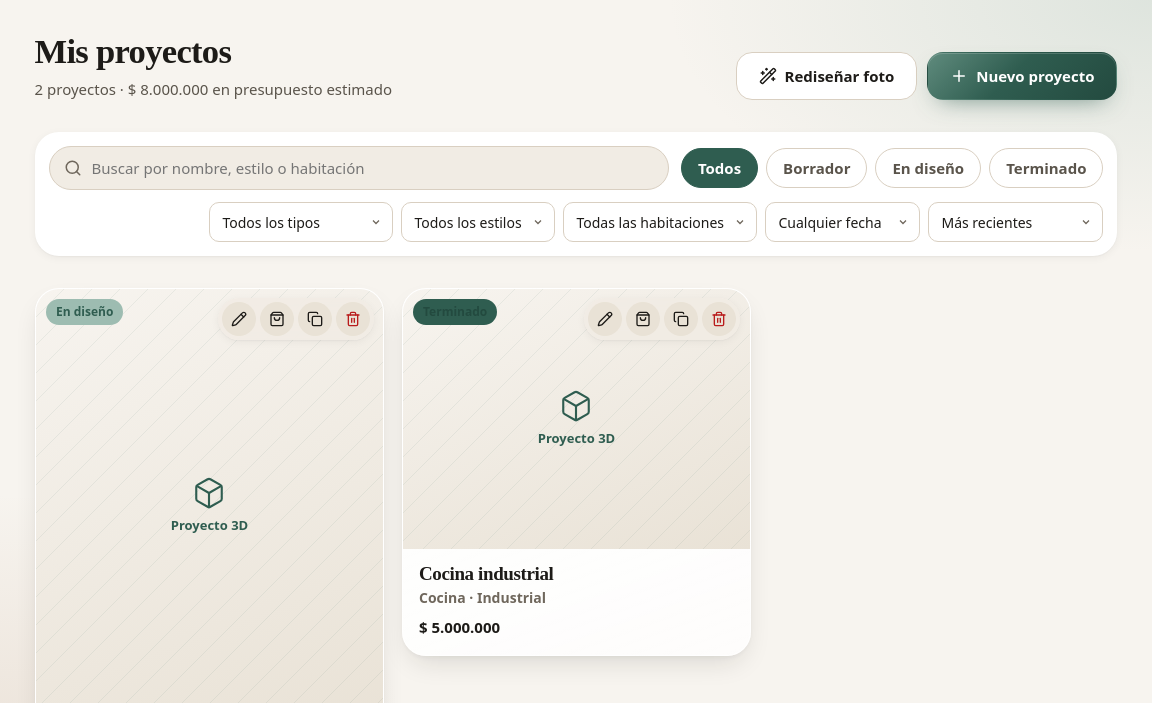
Test: Projects page › filters by text and status and clears the filters
The width and height of the screenshot is (1152, 703).
Type "cocina" into the search field named "Buscar proyectos" at [372, 168], box [90,156,654,180]
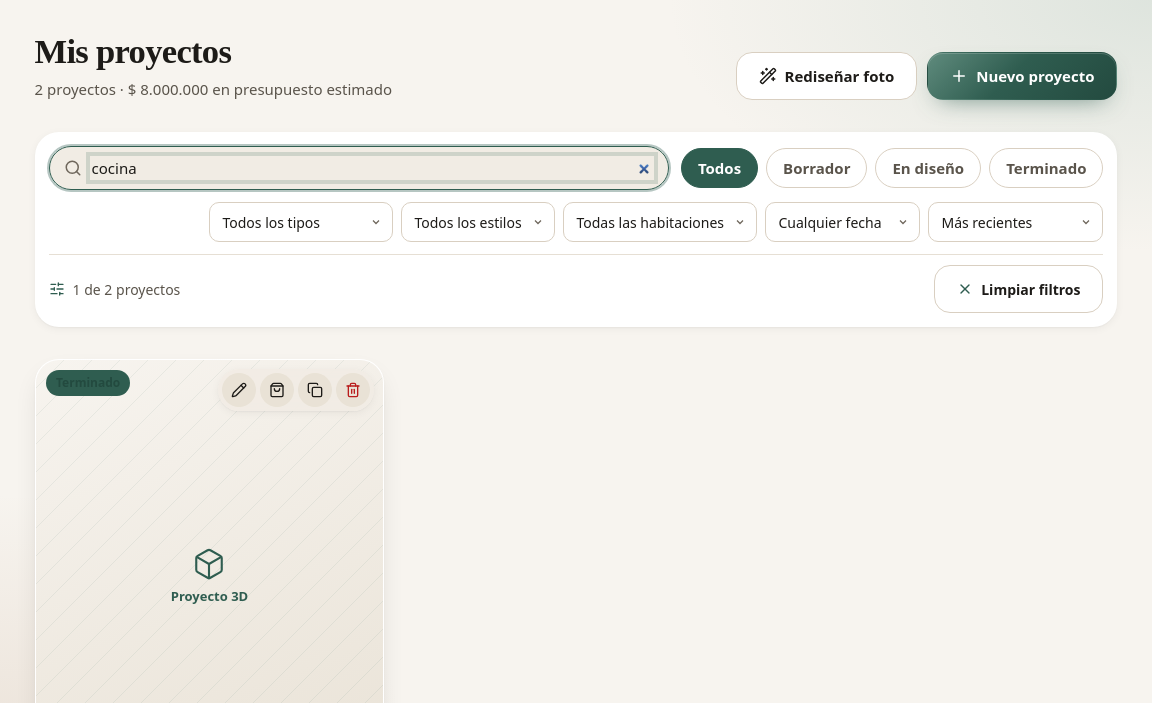
Click the button "En diseño" at [928, 168], box [876,148,981,188]
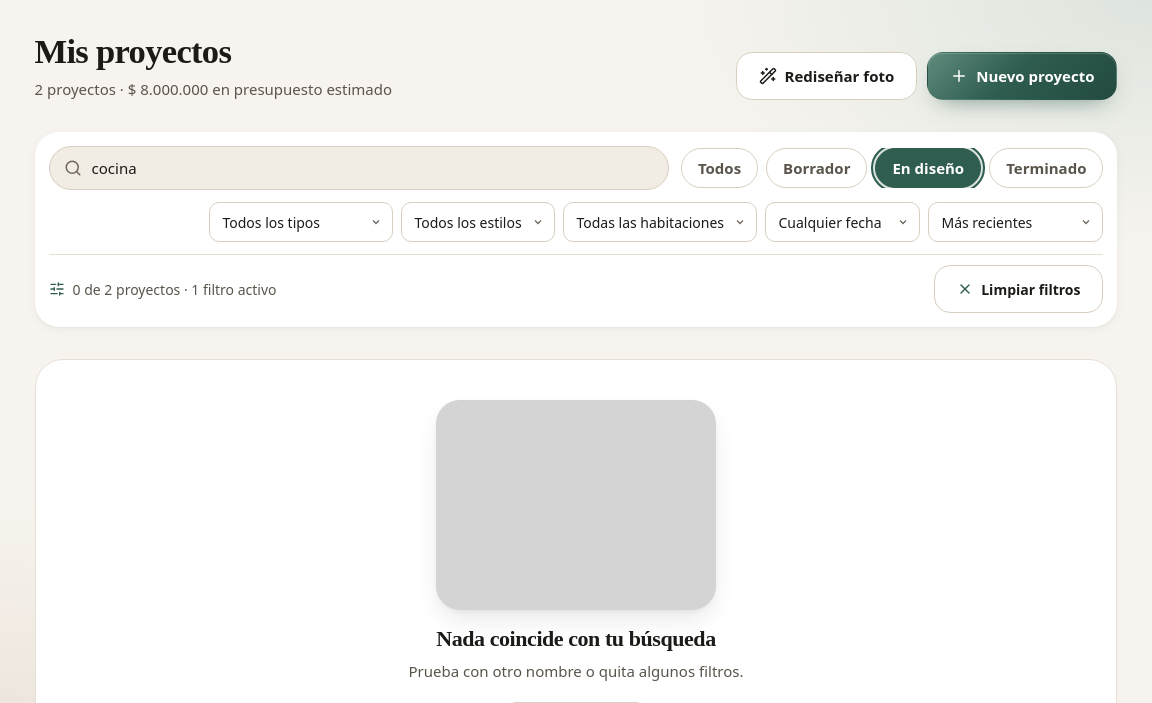
Check: the heading "Nada coincide con tu búsqueda" is shown, box [436,626,716,652]
Click the button "Limpiar filtros" in the row of "· 1 filtro activo" at [1019, 289], box [934,265,1104,313]
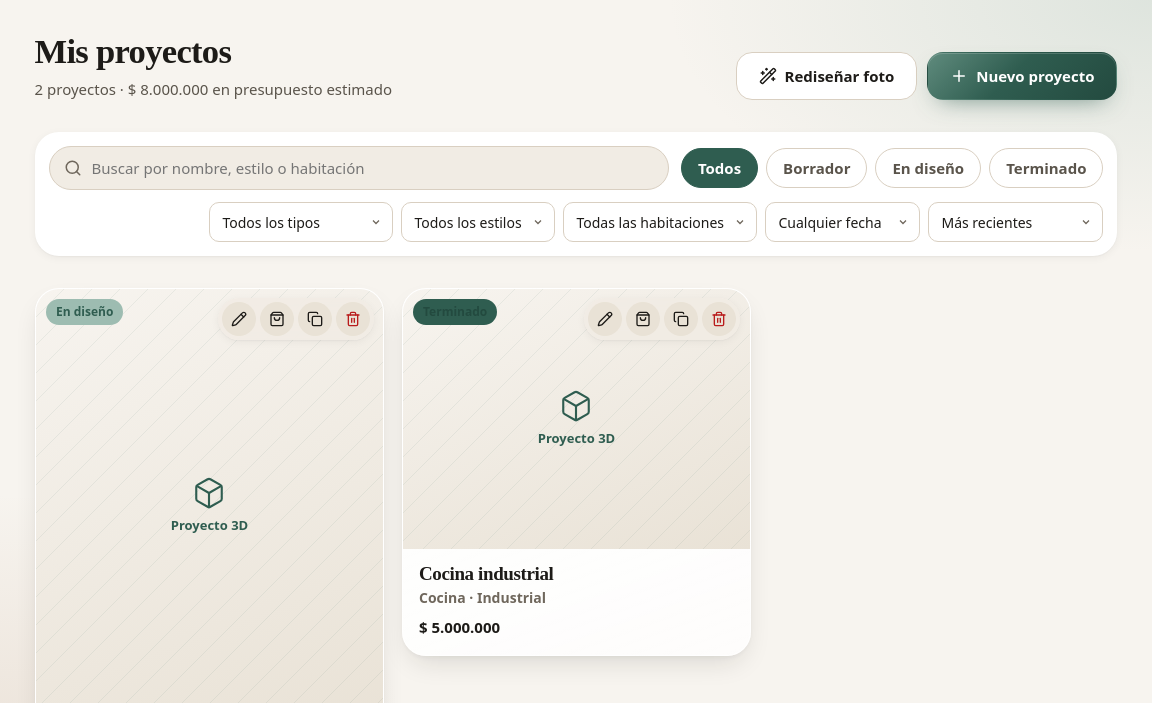
Check: the heading "Cocina industrial" is shown, box [418,564,553,584]
